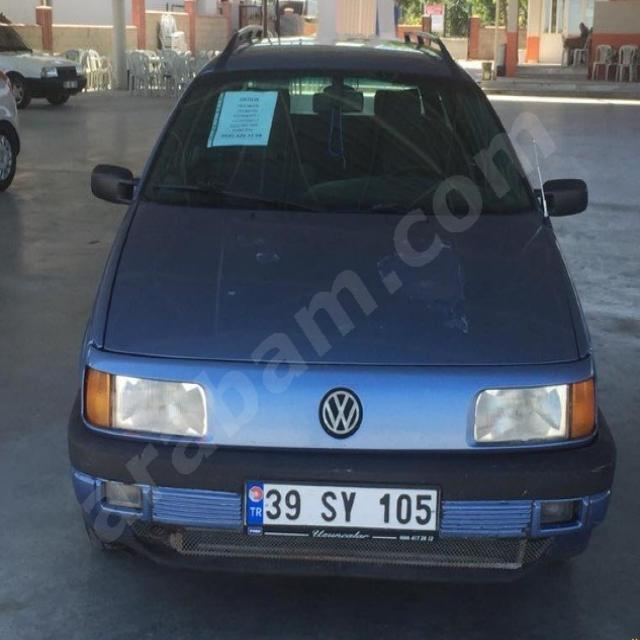license_plate: (243, 478, 438, 530)
